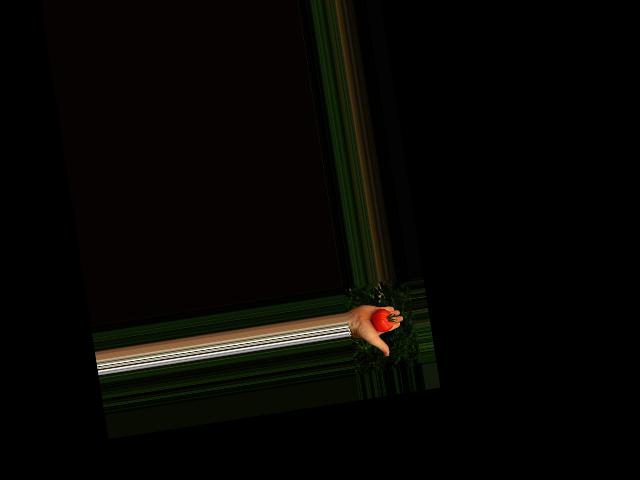tomato: (369, 306, 394, 333)
